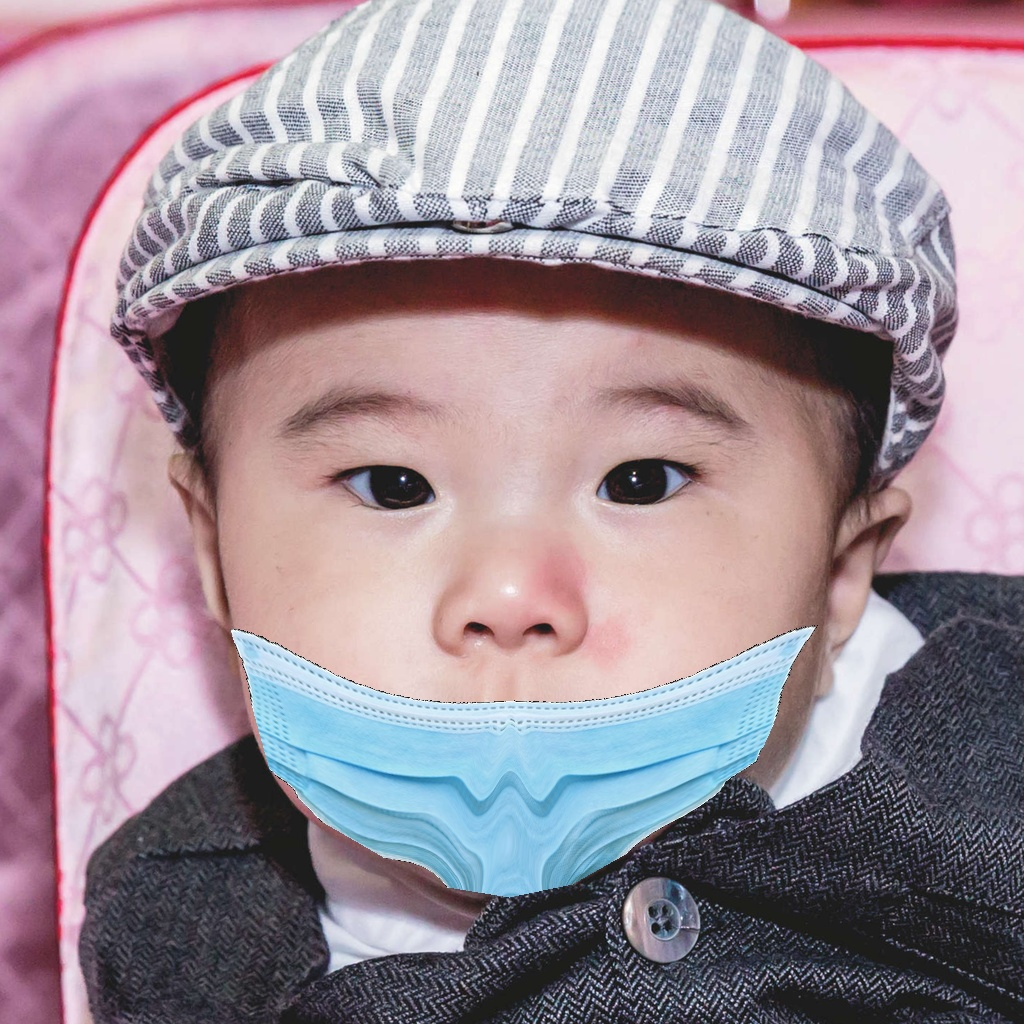mask_weared_incorrect: (201, 352, 832, 914)
